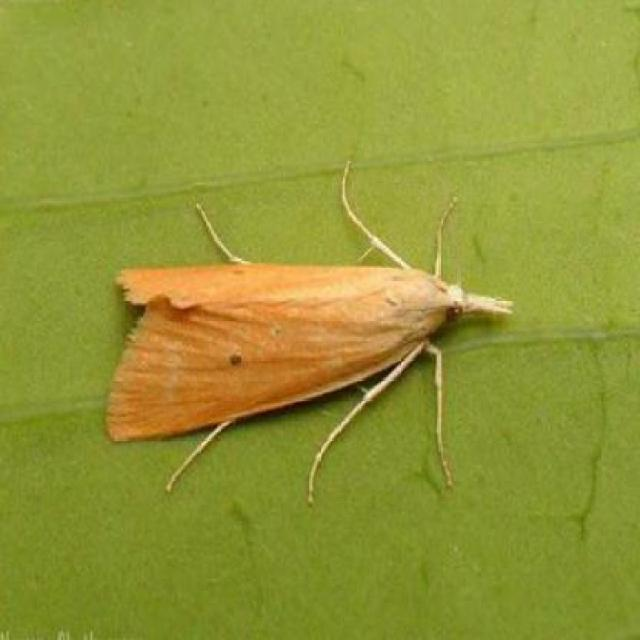stem-borer: (106, 228, 516, 466)
